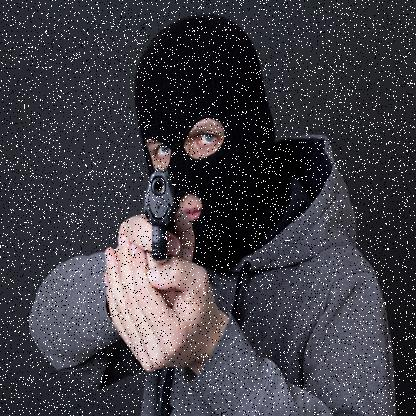pistol: (143, 164, 175, 260)
